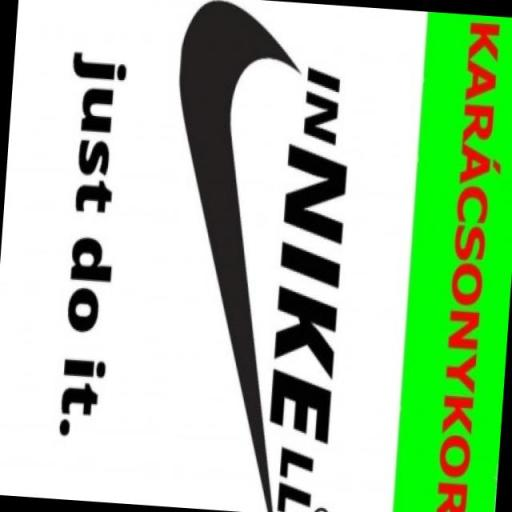Nike: (148, 0, 298, 503), (260, 143, 350, 450)
